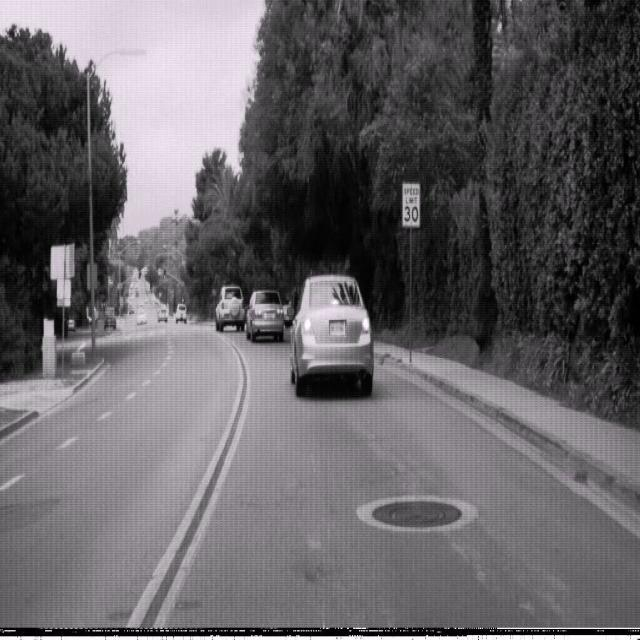speedLimit30: (401, 180, 421, 227)
